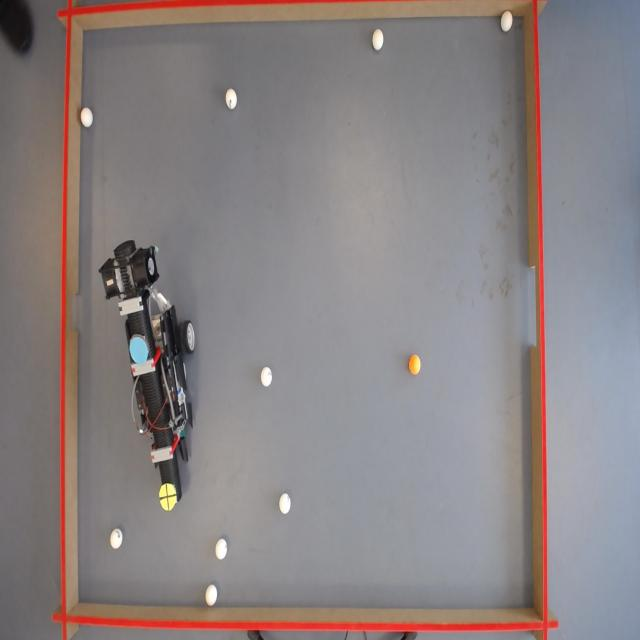orange: (410, 354, 423, 374)
robot: (95, 233, 201, 503)
robot-front: (160, 482, 178, 512)
robot-rear: (130, 335, 149, 366)
white: (205, 584, 219, 608), (372, 29, 386, 51), (109, 528, 123, 549), (279, 492, 292, 514), (215, 538, 228, 560), (500, 10, 513, 32), (80, 107, 93, 128), (224, 90, 237, 110), (262, 365, 274, 386)
